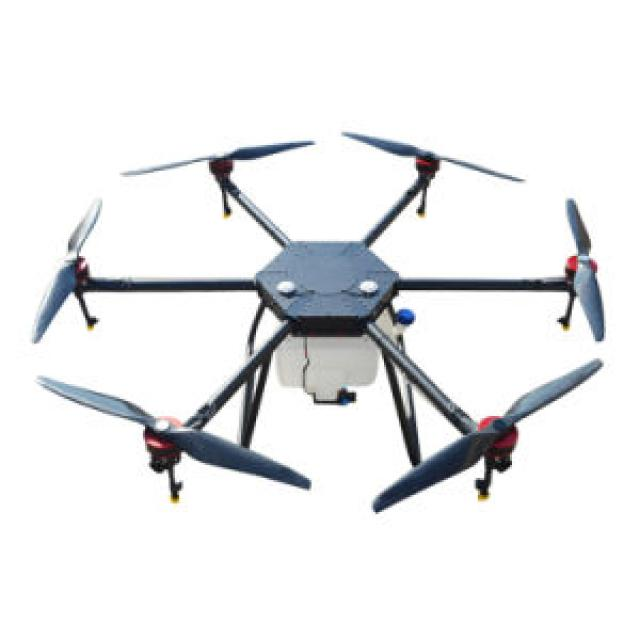drone: (9, 106, 636, 525)
